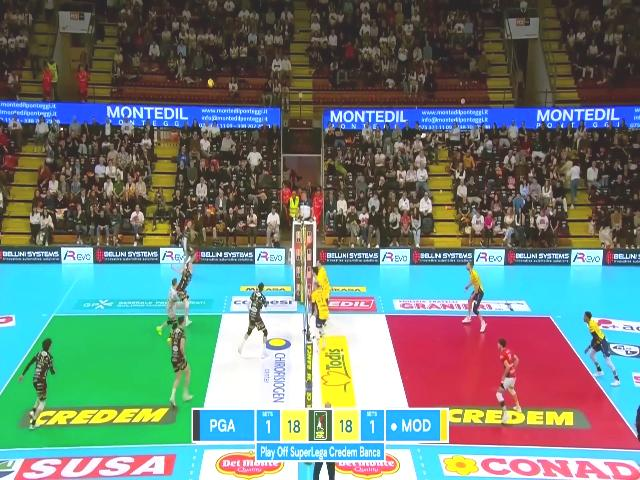volleyball court: (0, 313, 638, 449)
